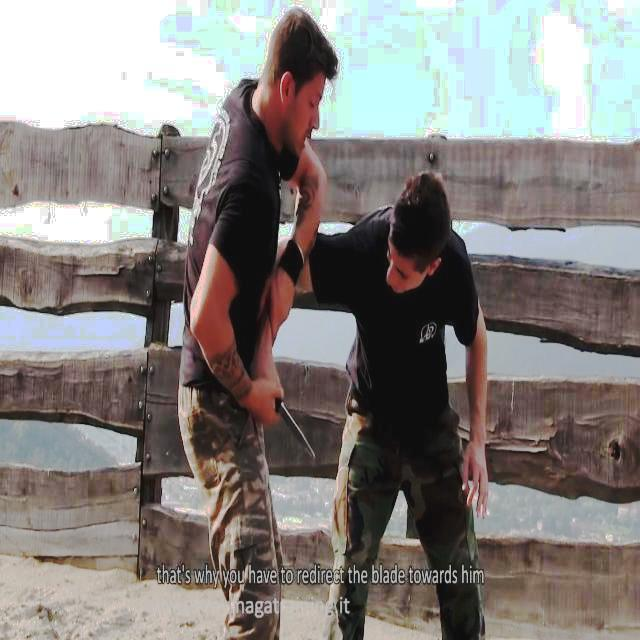Knife: (268, 385, 320, 468)
